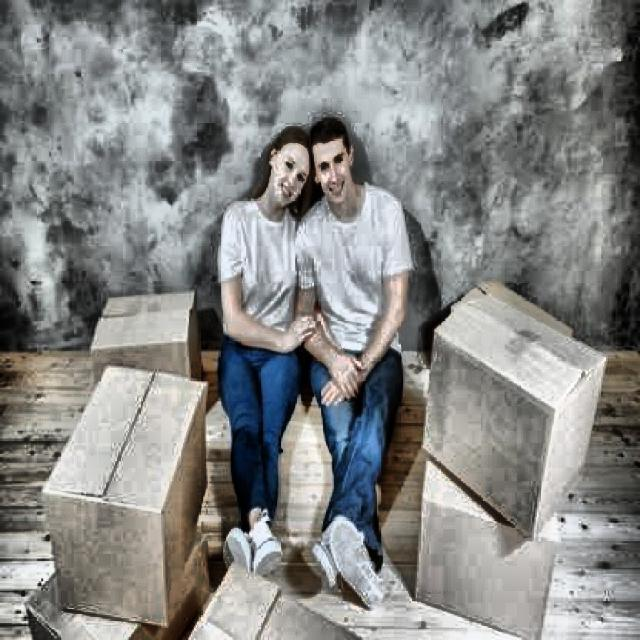Cardbox: (426, 277, 614, 542), (44, 374, 224, 627), (90, 276, 220, 432)
